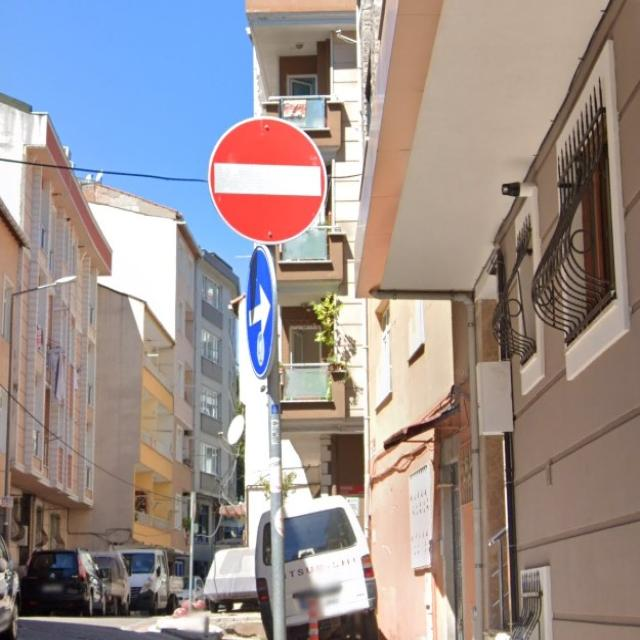girisyok: (208, 118, 328, 244)
sag: (245, 244, 276, 378)
